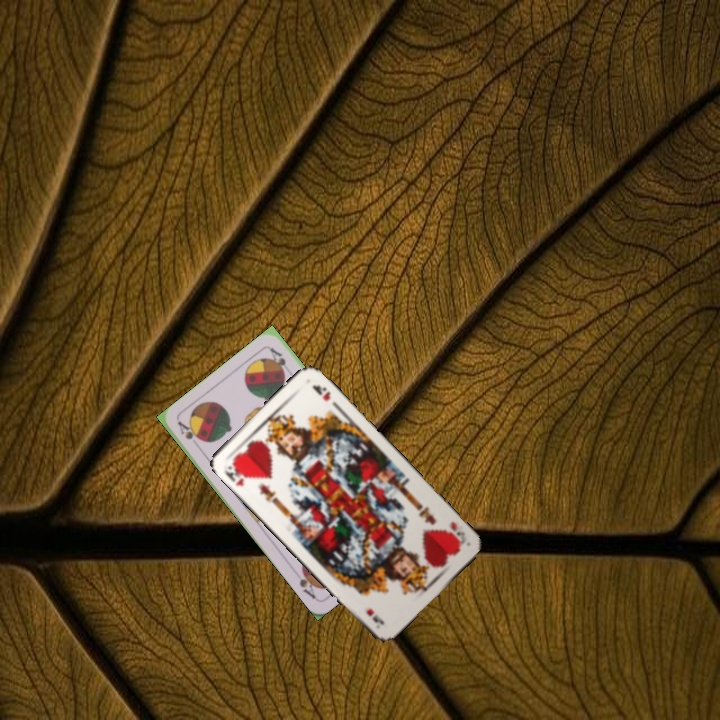HK: (220, 458, 250, 488), (444, 518, 469, 544)
SA: (174, 417, 204, 444)
